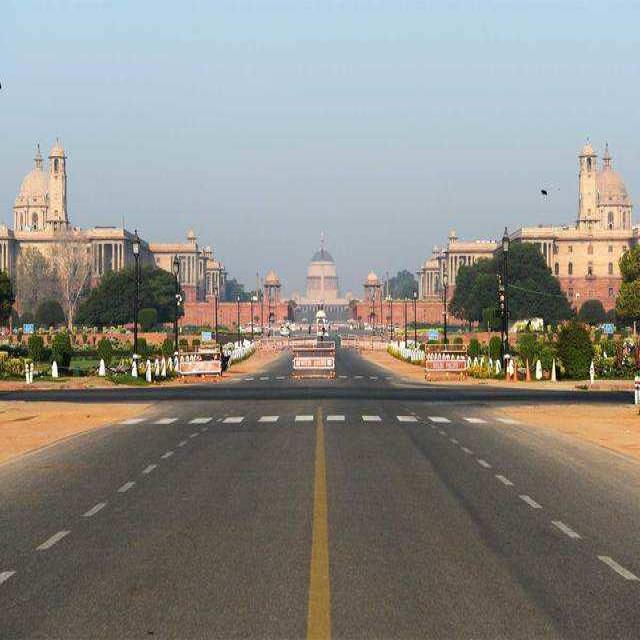Clean road: (0, 334, 640, 640)
